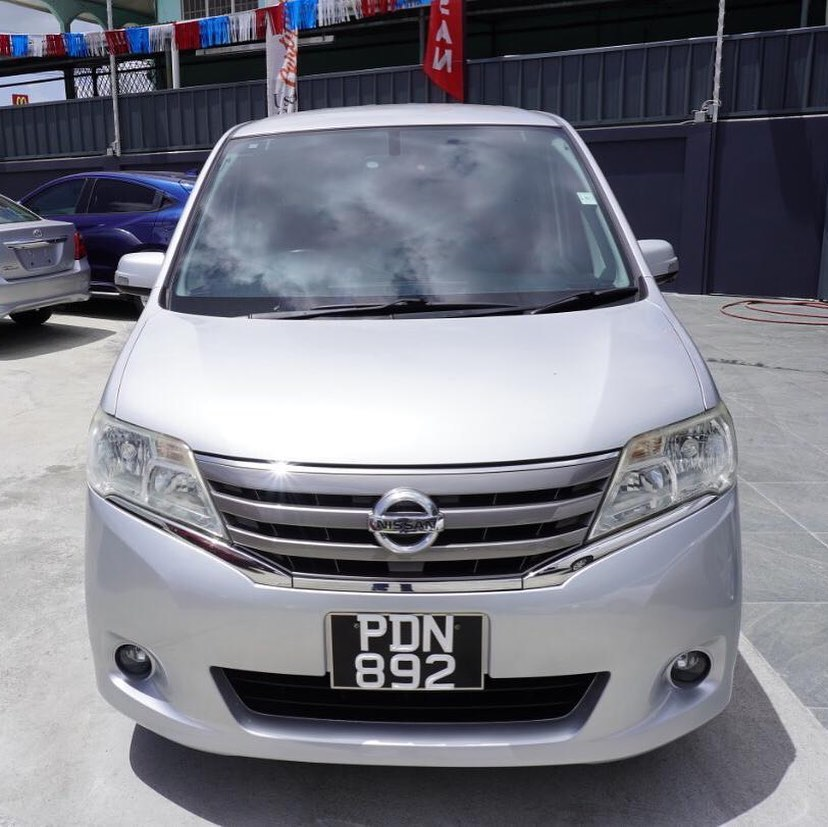License-Plate: (331, 613, 482, 690)
